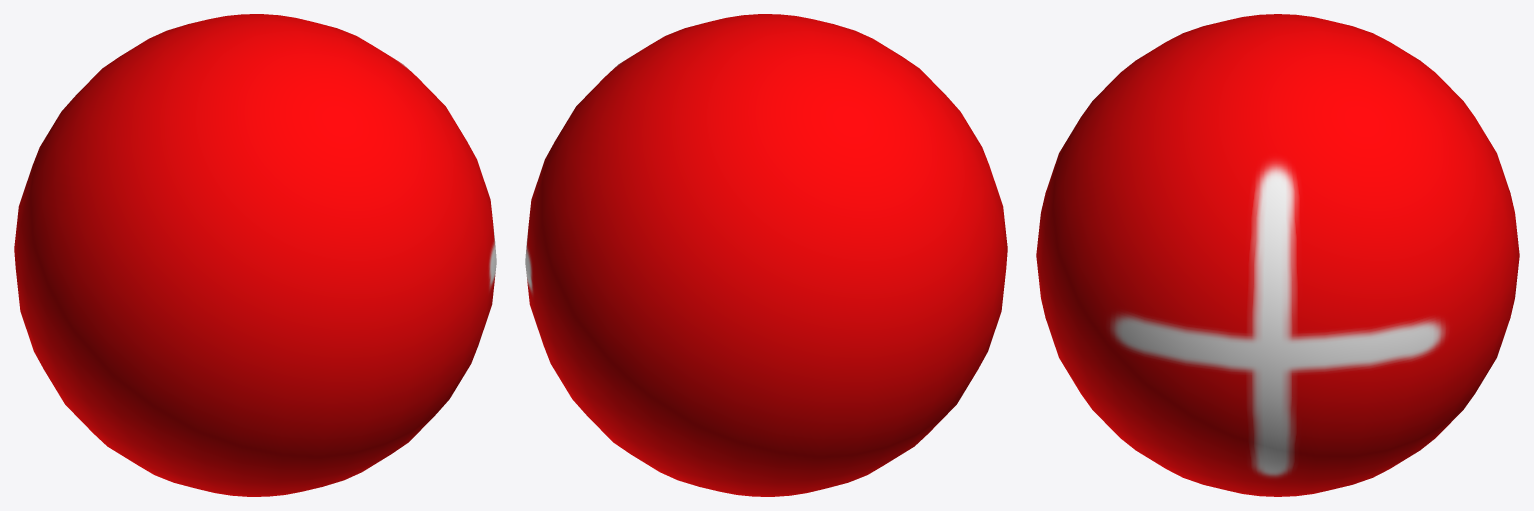
File: proton.glb
3 renders of one model, left to right at view 1: azimuth 30°, elevation 25°; view 2: azimuth 150°, elevation 25°; view 3: azimuth 270°, elevation 25°, orthographic.
Visible parts, largest first — view 1: Esfera; view 2: Esfera; view 3: Esfera.
Part boxes in pixels (left/top/right/bottom): Esfera: left=14, top=14, right=496, bottom=496; Esfera: left=525, top=14, right=1007, bottom=496; Esfera: left=1036, top=14, right=1519, bottom=496.
Size of the model in its own units: 2 by 2 by 2.
1 material, 1 textured.
